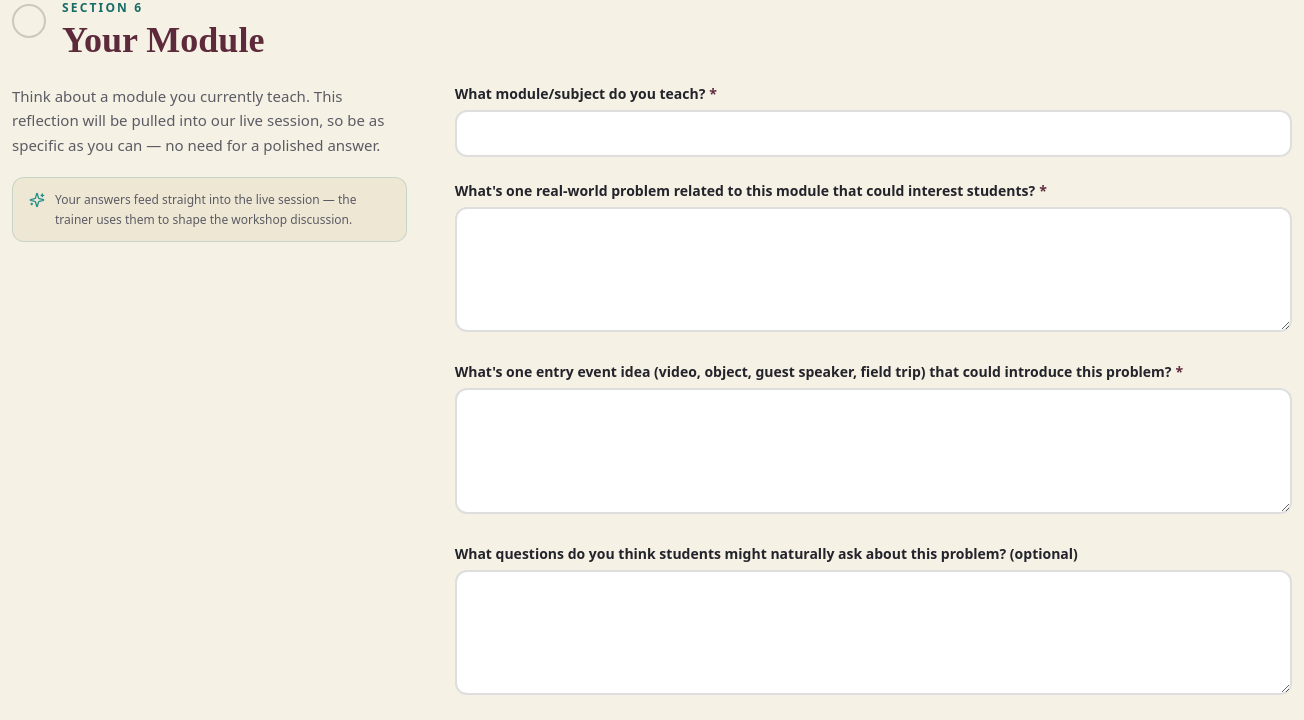
Test: S6 Module reflection › keeps Continue disabled until every required field has content
In the field labelled "What module/subject do you teach?": (873, 133) 455,110 -> 1292,156, type "Principles of Marketing"
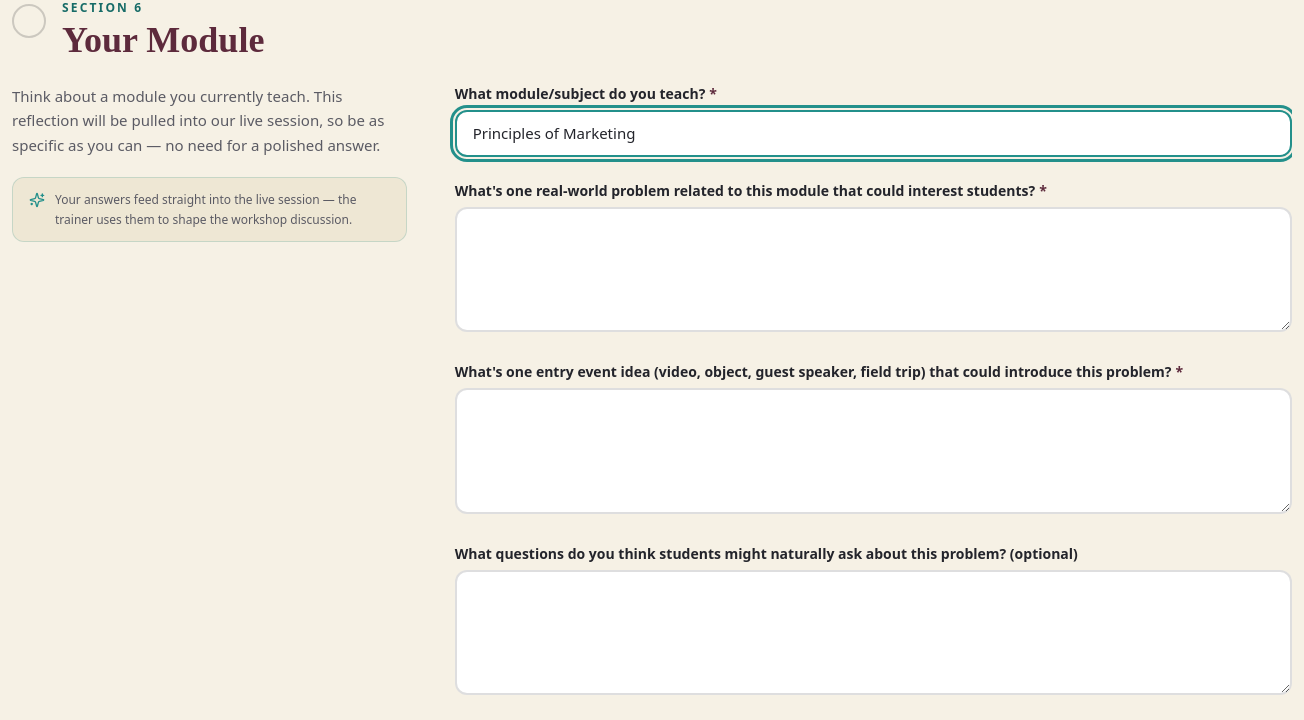
In the text box named "What's one real-world problem related to this module that could interest students?": (873, 269) 455,206 -> 1292,332, type "A local cafe keeps losing regular customers to a new chain."
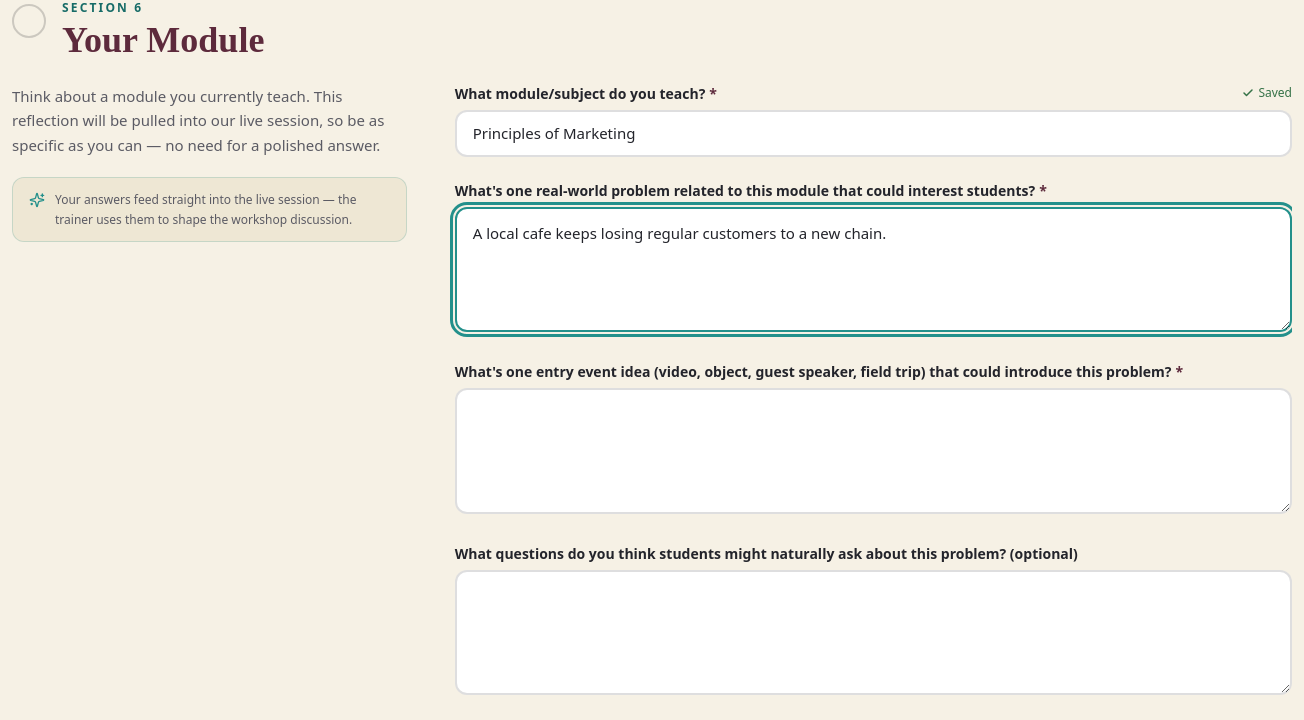
In the text box named "What's one entry event idea (video, object, guest speaker, field trip) that could introduce this problem?": (873, 451) 455,388 -> 1292,514, type "Invite the cafe owner to speak about their falling sales."
(page scrolled)
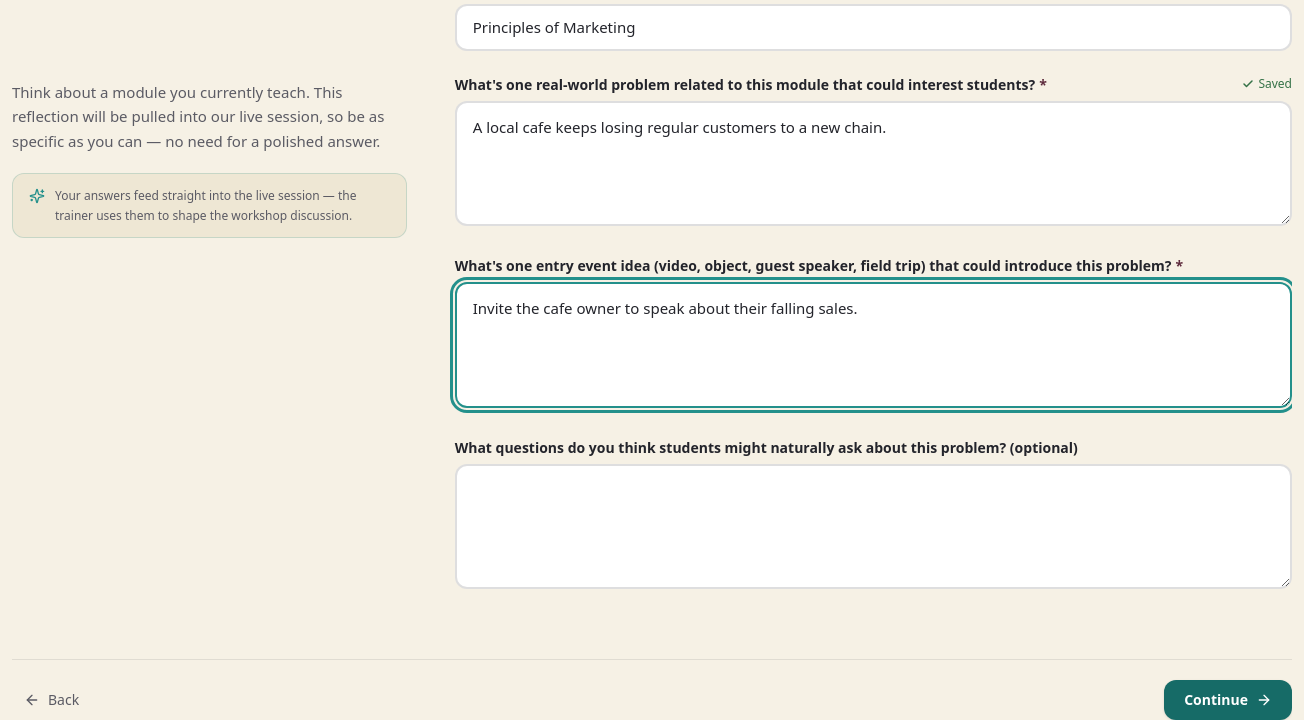
Check: the button "Continue" is enabled, box 1164,680 -> 1292,719
